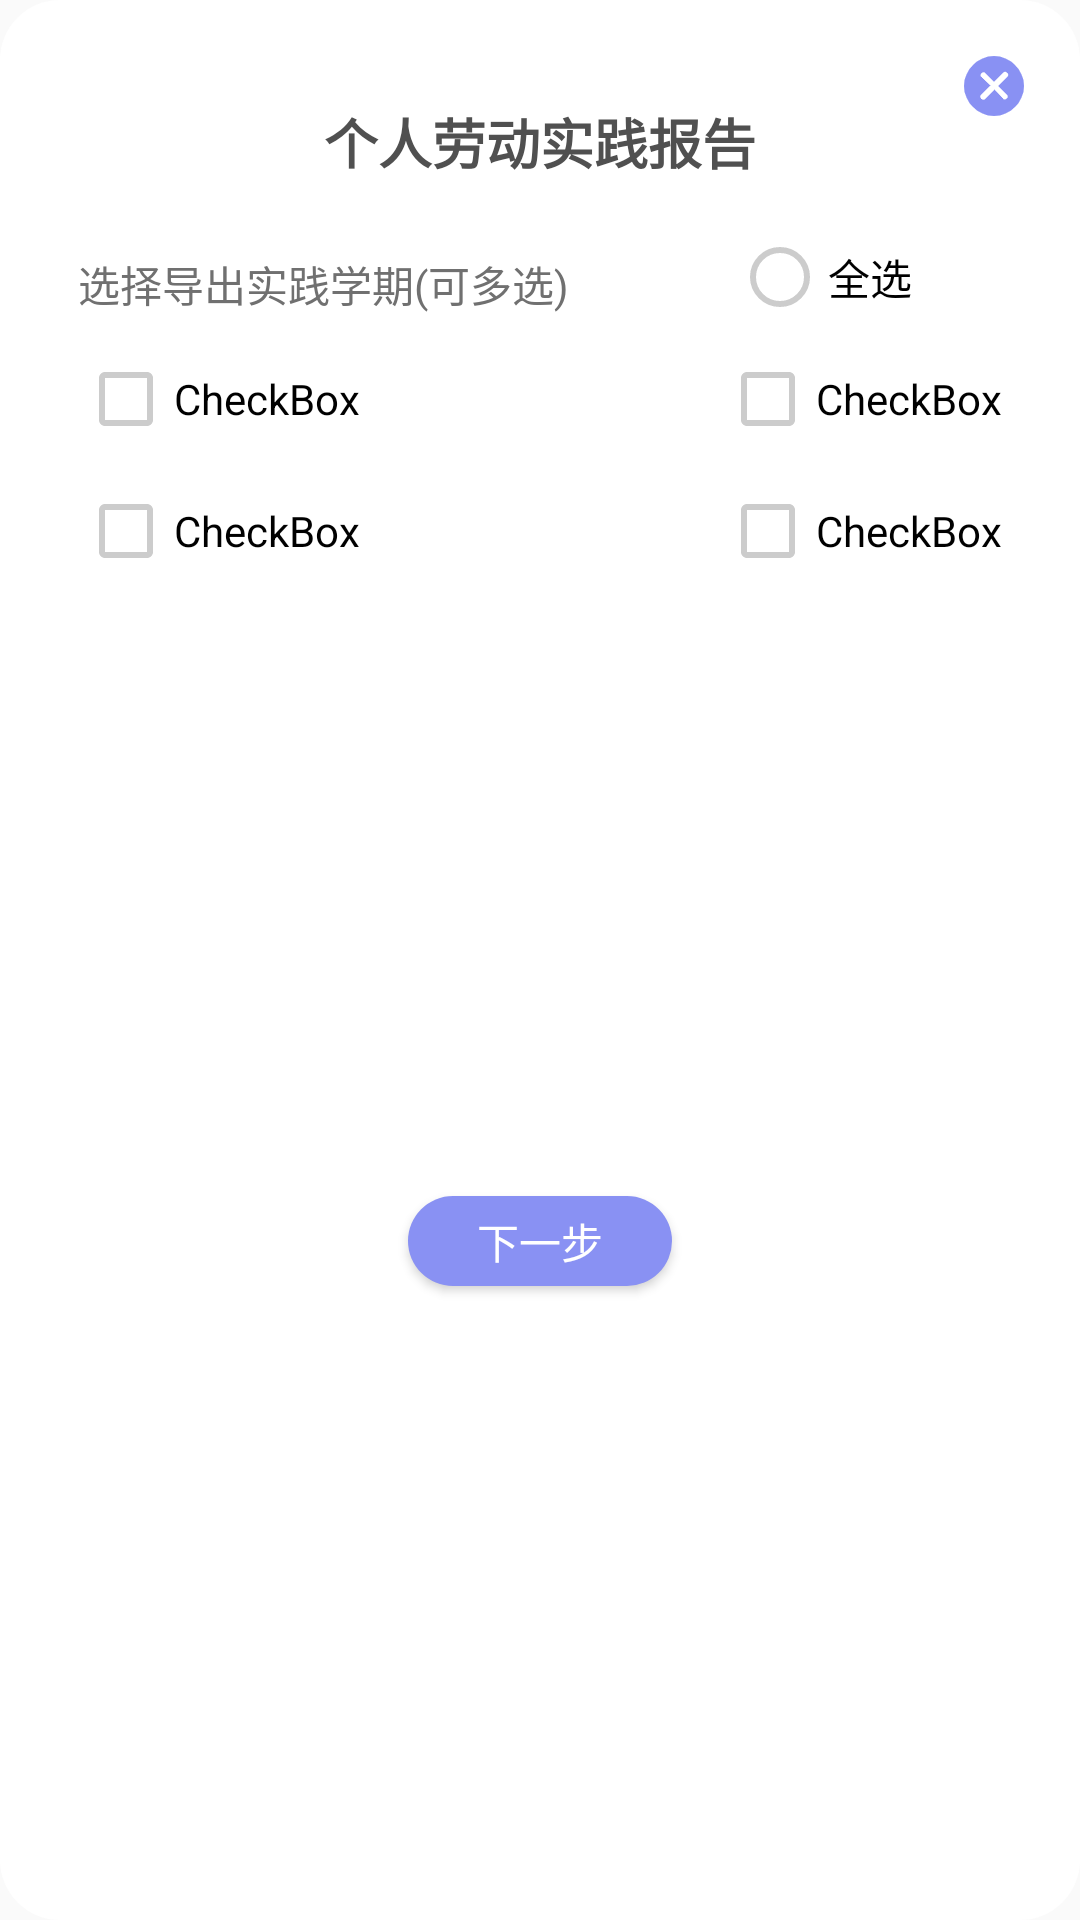

Where to tap for icons on this 1080w x 1920h app screen, as [x,y]:
cancel: [994,86]
